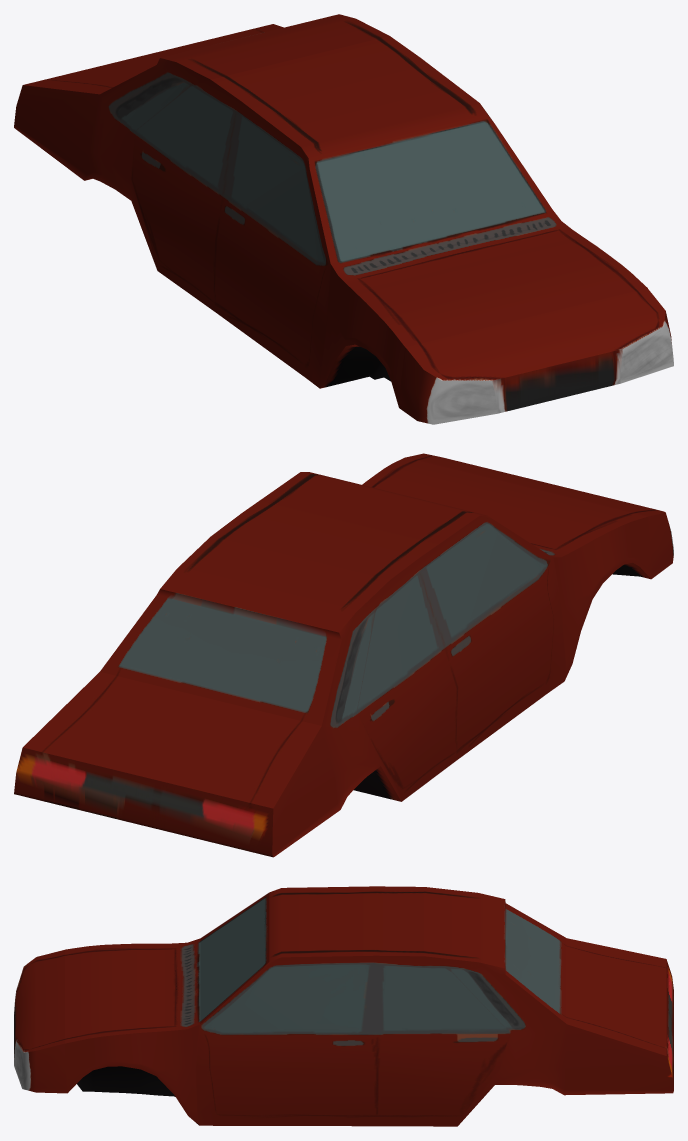
Rendered from lp-berline-bordeaux.glb.
The picture shows the model from 3 angles, top to bottom: view 1: azimuth 30°, elevation 25°; view 2: azimuth 150°, elevation 25°; view 3: azimuth 270°, elevation 25°; orthographic projection. The views are drawn at different scales.
Parts seen in each view (by area): view 1: Object_21; view 2: Object_21; view 3: Object_21.
Boxes of the visible parts, bbox=[...] form: Object_21: bbox=[14, 14, 673, 424]; Object_21: bbox=[14, 453, 673, 857]; Object_21: bbox=[14, 886, 673, 1126].
Bounding box in the file's own units: 2.07 × 1.52 × 5.75.
1 material, 1 textured.
